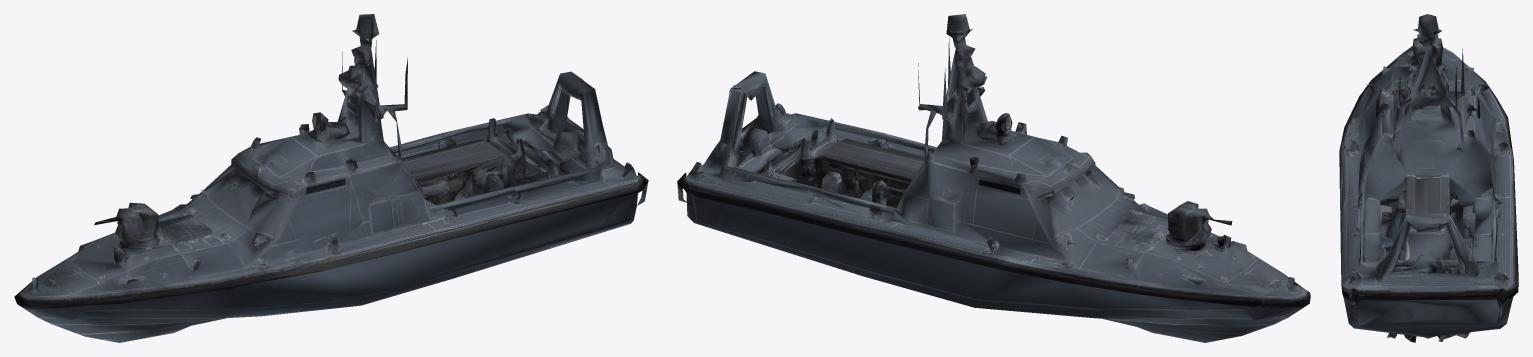
Rendered from mcm-usv-remesh-3k-web-v106.glb.
The picture shows the model from 3 angles, left to right: view 1: azimuth 30°, elevation 25°; view 2: azimuth 150°, elevation 25°; view 3: azimuth 270°, elevation 25°; orthographic projection. The views are drawn at different scales.
Visible parts, largest first — view 1: Mesh1.0; view 2: Mesh1.0; view 3: Mesh1.0.
Part boxes in pixels (box(x1,y1,x2,y2)): Mesh1.0: box(14, 14, 648, 342); Mesh1.0: box(677, 14, 1310, 342); Mesh1.0: box(1339, 14, 1518, 342).
Size of the model in its own units: 1.9 by 0.8241 by 0.547.
Materials: 1 (1 with a texture image).
